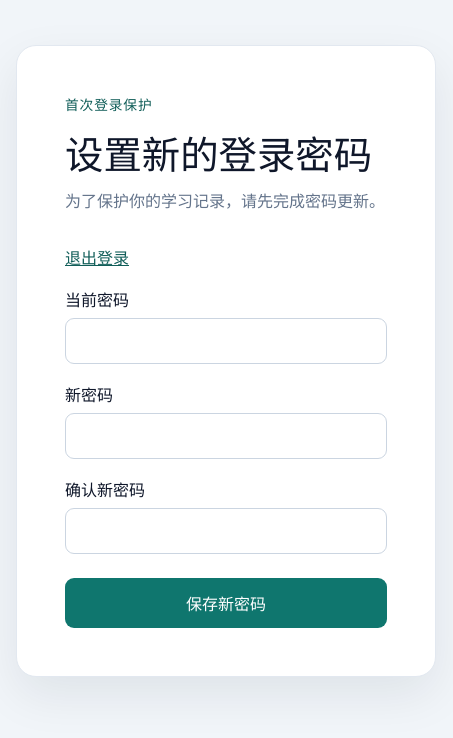
ChangePasswordView › shows request ID and clears all passwords after a failed submission
The width and height of the screenshot is (453, 738).
Type "old password" into the password field named "当前密码" at (226, 341), box top-left (65, 318), bottom-right (387, 364)
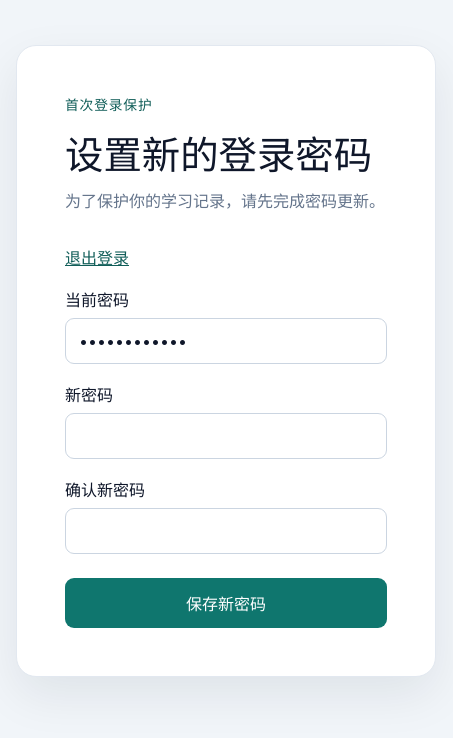
Type "new password" into the password field named "新密码" at (226, 436), box top-left (65, 413), bottom-right (387, 459)
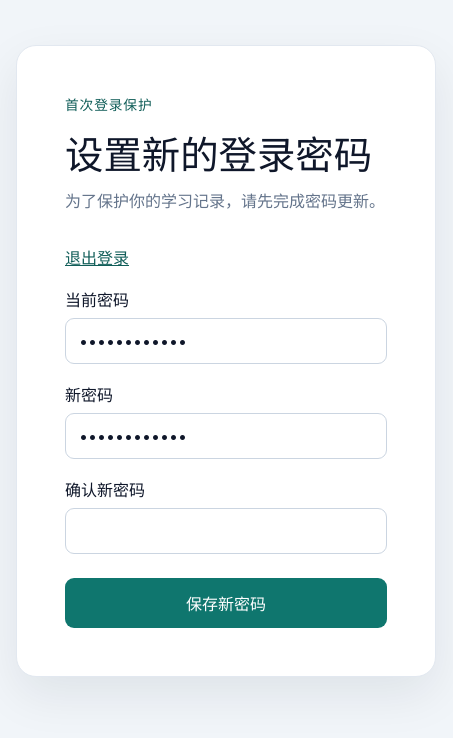
Type "new password" into the password field named "确认新密码" at (226, 531), box top-left (65, 508), bottom-right (387, 554)
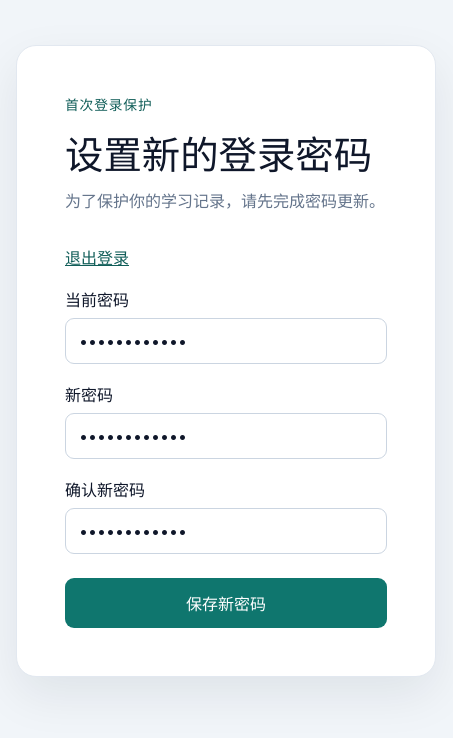
Submit the form, box top-left (65, 287), bottom-right (387, 628)
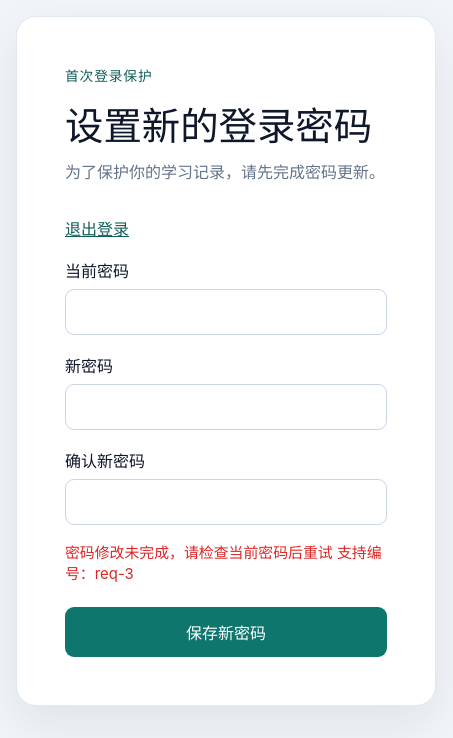
Expected: the text "支持编号：req-3" is shown, top-left (65, 544), bottom-right (382, 583)
Expected: the password field named "当前密码" is empty, top-left (65, 289), bottom-right (387, 335)
Expected: the password field named "新密码" is empty, top-left (65, 384), bottom-right (387, 430)
